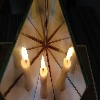fire: (41, 55, 46, 71)
